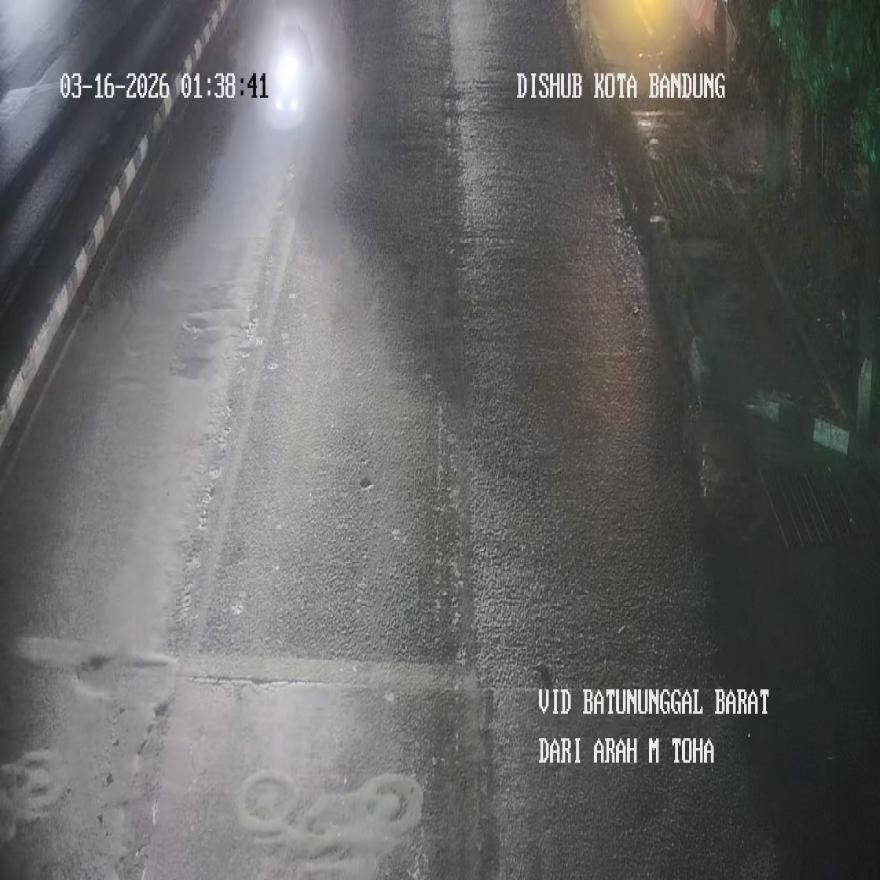Mobil: (261, 56, 304, 123)
